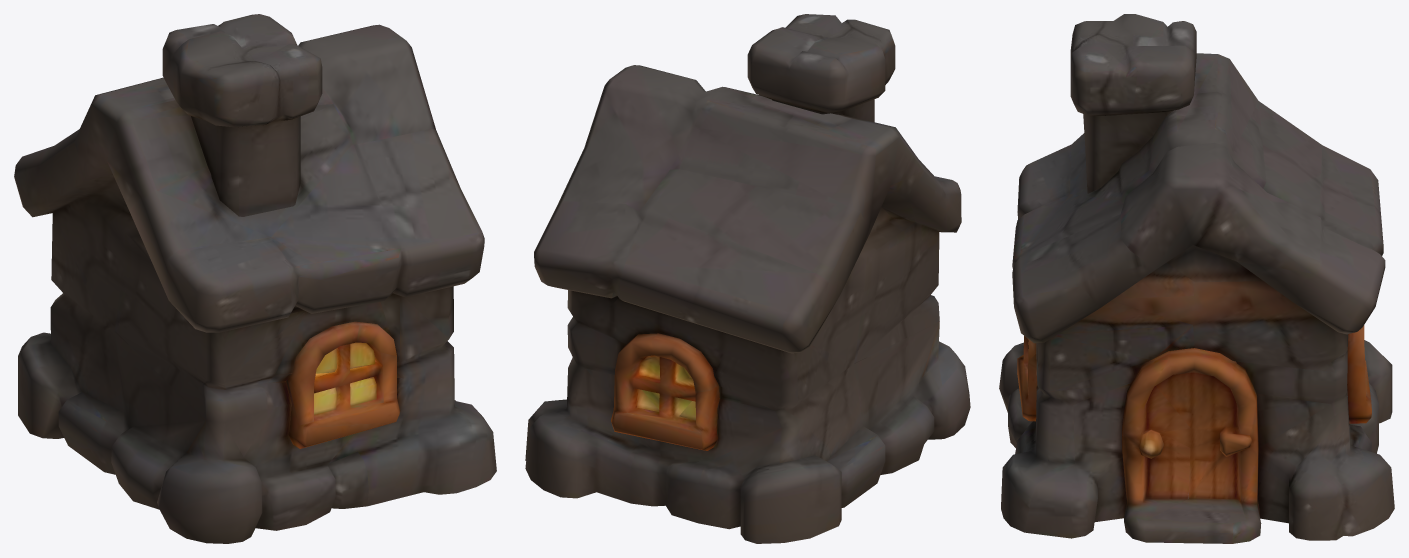
File: hut.glb
The picture shows the model from 3 angles, left to right: view 1: azimuth 30°, elevation 25°; view 2: azimuth 150°, elevation 25°; view 3: azimuth 270°, elevation 25°; orthographic projection. The views are drawn at different scales.
Visible parts, largest first — view 1: tripo_node_2ca4d56d-fbb5-4df3-b6ee-d9d9158e1883; view 2: tripo_node_2ca4d56d-fbb5-4df3-b6ee-d9d9158e1883; view 3: tripo_node_2ca4d56d-fbb5-4df3-b6ee-d9d9158e1883.
Part boxes in pixels (left/top/right/bottom): tripo_node_2ca4d56d-fbb5-4df3-b6ee-d9d9158e1883: left=14, top=14, right=496, bottom=543; tripo_node_2ca4d56d-fbb5-4df3-b6ee-d9d9158e1883: left=525, top=14, right=970, bottom=543; tripo_node_2ca4d56d-fbb5-4df3-b6ee-d9d9158e1883: left=999, top=14, right=1394, bottom=543.
Bounding box in the file's own units: 0.8184 × 0.998 × 0.8848.
1 material, 1 textured.
